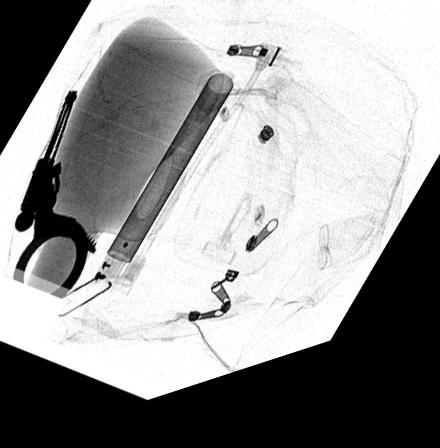HandCuffs: (12, 94, 96, 302)
